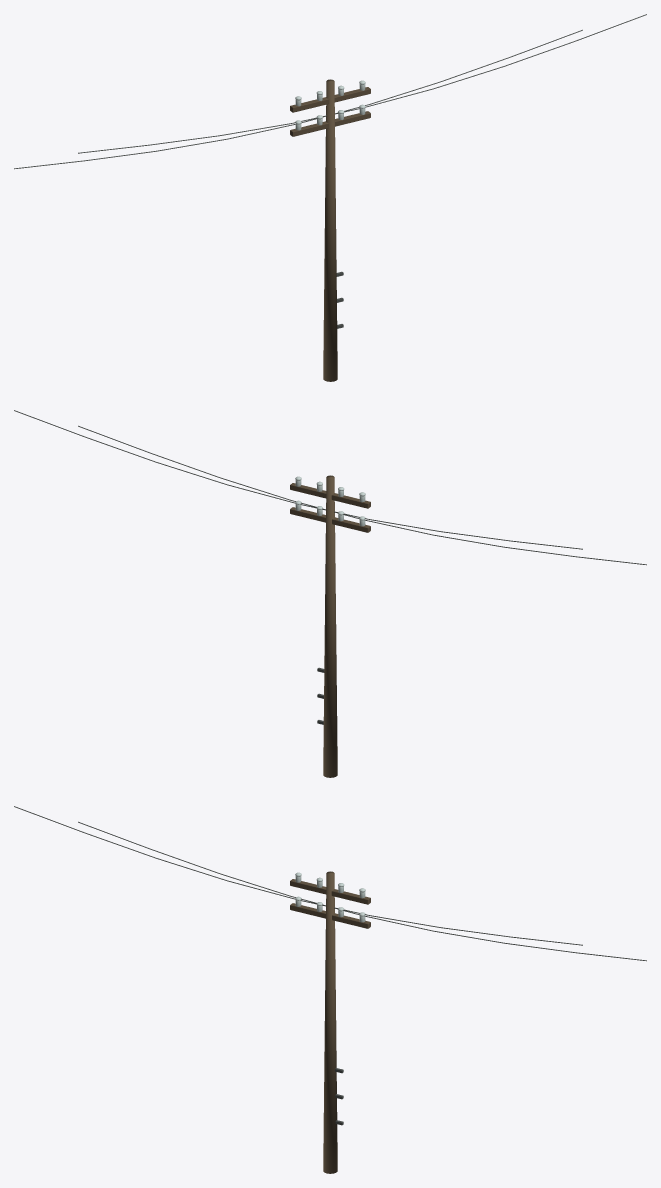
The model's file is Prop_Telegraph_Pole_01.fbx.
3 views of the same model, one above another, from view 1: azimuth 30°, elevation 25°; view 2: azimuth 150°, elevation 25°; view 3: azimuth 330°, elevation 25° (orthographic).
Visible parts, largest first — view 1: Prop_Telegraph_Pole_01_OPT_Merged_ENV_Telegraph_CreosoteWood, Prop_Telegraph_Pole_01_OPT_Merged_ENV_Telegraph_Iron_OPT_DAT; view 2: Prop_Telegraph_Pole_01_OPT_Merged_ENV_Telegraph_CreosoteWood, Prop_Telegraph_Pole_01_OPT_Merged_ENV_Telegraph_Iron_OPT_DAT; view 3: Prop_Telegraph_Pole_01_OPT_Merged_ENV_Telegraph_CreosoteWood, Prop_Telegraph_Pole_01_OPT_Merged_ENV_Telegraph_Iron_OPT_DAT.
Part boxes in pixels (bbox=[...]): Prop_Telegraph_Pole_01_OPT_Merged_ENV_Telegraph_CreosoteWood: bbox=[290, 79, 370, 381]; Prop_Telegraph_Pole_01_OPT_Merged_ENV_Telegraph_Iron_OPT_DAT: bbox=[14, 14, 646, 328]; Prop_Telegraph_Pole_01_OPT_Merged_ENV_Telegraph_CreosoteWood: bbox=[290, 475, 370, 777]; Prop_Telegraph_Pole_01_OPT_Merged_ENV_Telegraph_Iron_OPT_DAT: bbox=[14, 410, 646, 724]; Prop_Telegraph_Pole_01_OPT_Merged_ENV_Telegraph_CreosoteWood: bbox=[290, 871, 370, 1173]; Prop_Telegraph_Pole_01_OPT_Merged_ENV_Telegraph_Iron_OPT_DAT: bbox=[14, 806, 646, 1125].
Bounding box in the file's own units: 1780 × 800 × 36.
